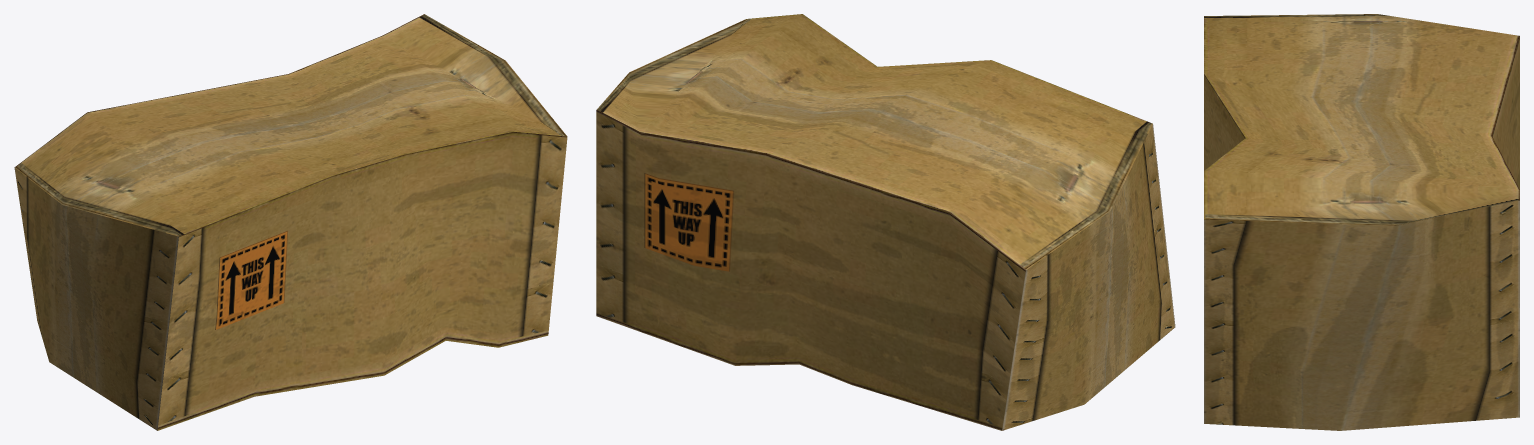
Rendered from carboardbox_crushed.fbx.
The picture shows the model from 3 angles, left to right: view 1: azimuth 30°, elevation 25°; view 2: azimuth 150°, elevation 25°; view 3: azimuth 270°, elevation 25°; orthographic projection. The views are drawn at different scales.
Visible parts, largest first — view 1: cardboardbox1; view 2: cardboardbox1; view 3: cardboardbox1.
Part boxes in pixels (<box>): cardboardbox1: <box>14,14,567,430</box>; cardboardbox1: <box>596,14,1175,430</box>; cardboardbox1: <box>1204,14,1519,430</box>.
Bounding box in the file's own units: 0.8662 × 0.3892 × 0.4755.
